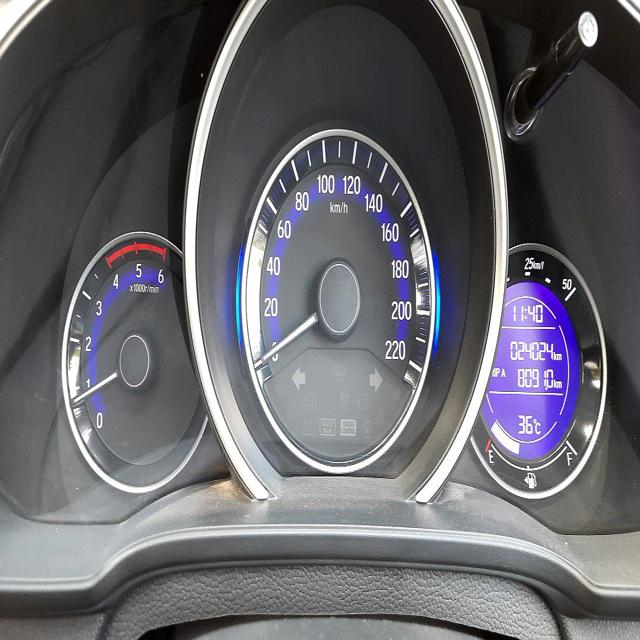odometer: (509, 338, 554, 362)
